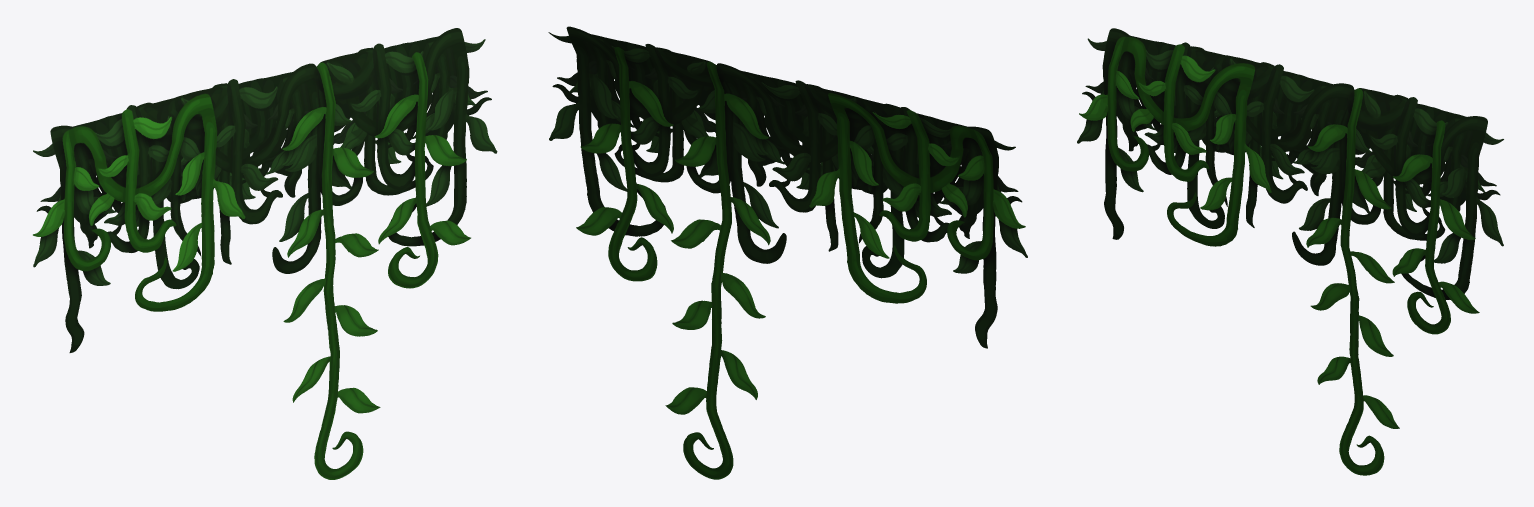
The model's file is sm_env_vineedge1.fbx.
3 renders of one model, left to right at view 1: azimuth 30°, elevation 25°; view 2: azimuth 150°, elevation 25°; view 3: azimuth 330°, elevation 25°, orthographic. The views are drawn at different scales.
Visible parts, largest first — view 1: sm_env_vineedge1; view 2: sm_env_vineedge1; view 3: sm_env_vineedge1.
Boxes of the visible parts, x1=… form: sm_env_vineedge1: x1=33, y1=28, x2=497, y2=479; sm_env_vineedge1: x1=548, y1=26, x2=1027, y2=479; sm_env_vineedge1: x1=1077, y1=28, x2=1503, y2=475.
Size of the model in its own units: 282 by 239 by 14.54.
